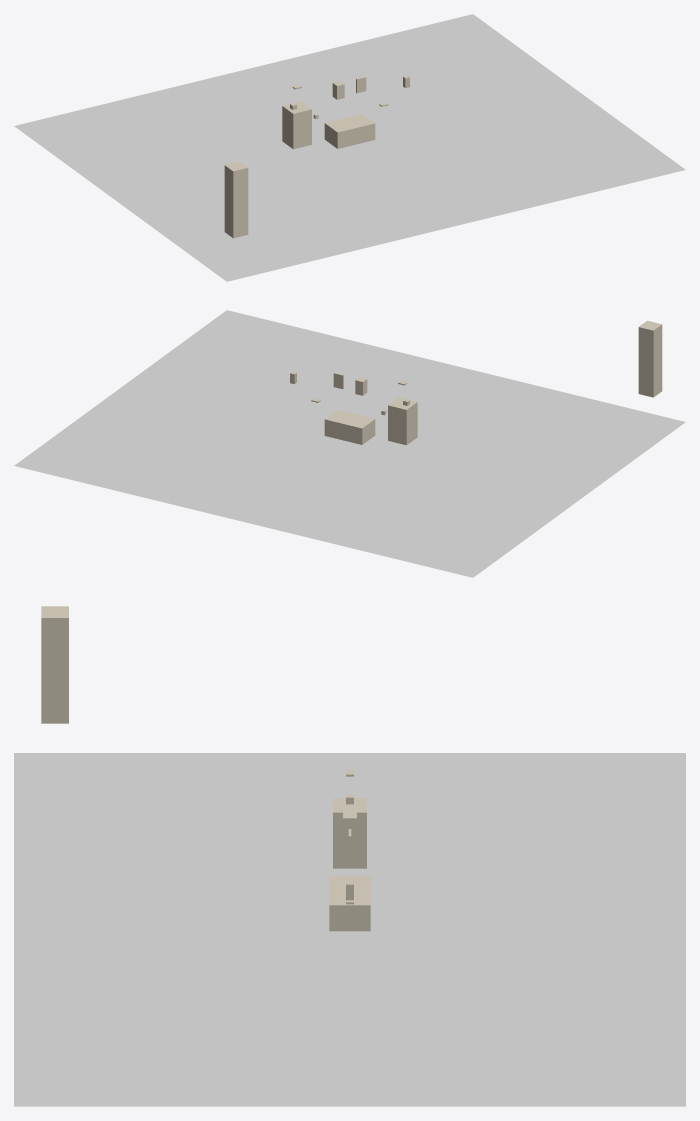
File: draft-95f9bc55.glb
3 renders of one model, top to bottom at view 1: azimuth 30°, elevation 25°; view 2: azimuth 150°, elevation 25°; view 3: azimuth 270°, elevation 25°, orthographic. The views are drawn at different scales.
Parts seen in each view (by area): view 1: Floor, asm_lamp_floor_3, asm_table_coffee_2, asm_chair_standard_1; view 2: Floor, asm_lamp_floor_3, asm_table_coffee_2, asm_chair_standard_1; view 3: Floor, asm_lamp_floor_3, asm_table_coffee_2, asm_chair_standard_1.
Boxes of the visible parts, bbox=[...] form: Floor: bbox=[14, 14, 685, 281]; asm_lamp_floor_3: bbox=[224, 161, 248, 238]; asm_table_coffee_2: bbox=[324, 114, 375, 148]; asm_chair_standard_1: bbox=[282, 101, 311, 149]; Floor: bbox=[14, 310, 685, 577]; asm_lamp_floor_3: bbox=[638, 320, 662, 397]; asm_table_coffee_2: bbox=[324, 410, 375, 444]; asm_chair_standard_1: bbox=[388, 397, 417, 445]; Floor: bbox=[14, 753, 685, 1106]; asm_lamp_floor_3: bbox=[41, 606, 68, 723]; asm_table_coffee_2: bbox=[329, 876, 370, 931]; asm_chair_standard_1: bbox=[333, 798, 366, 868].
Bounding box in the file's own units: 6.1 × 1.28 × 4.9.
